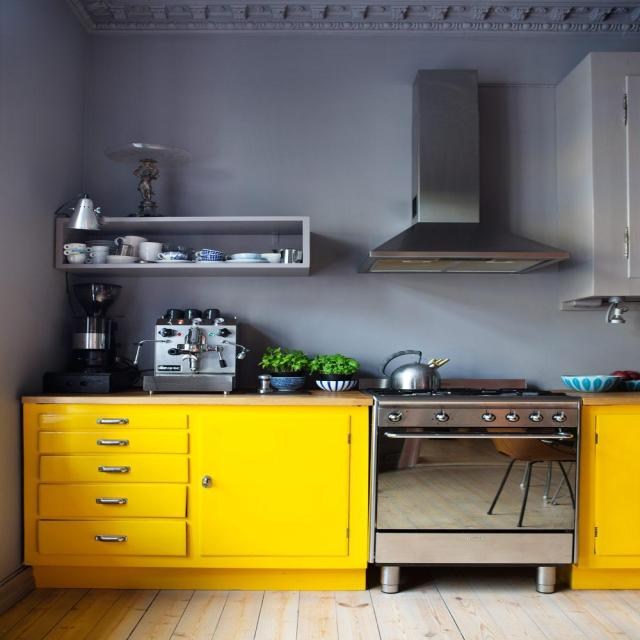other: (31, 395, 365, 589), (578, 404, 633, 573)
